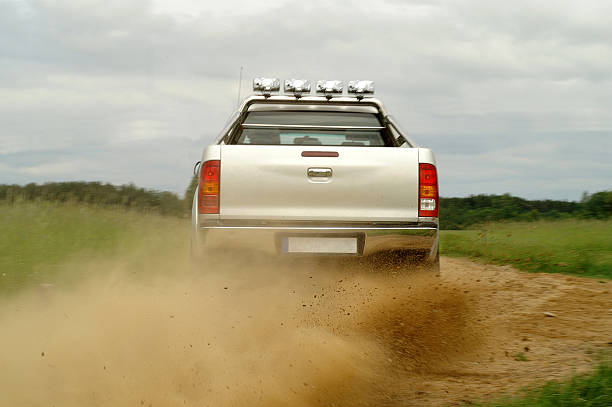Truck: (188, 75, 439, 281)
